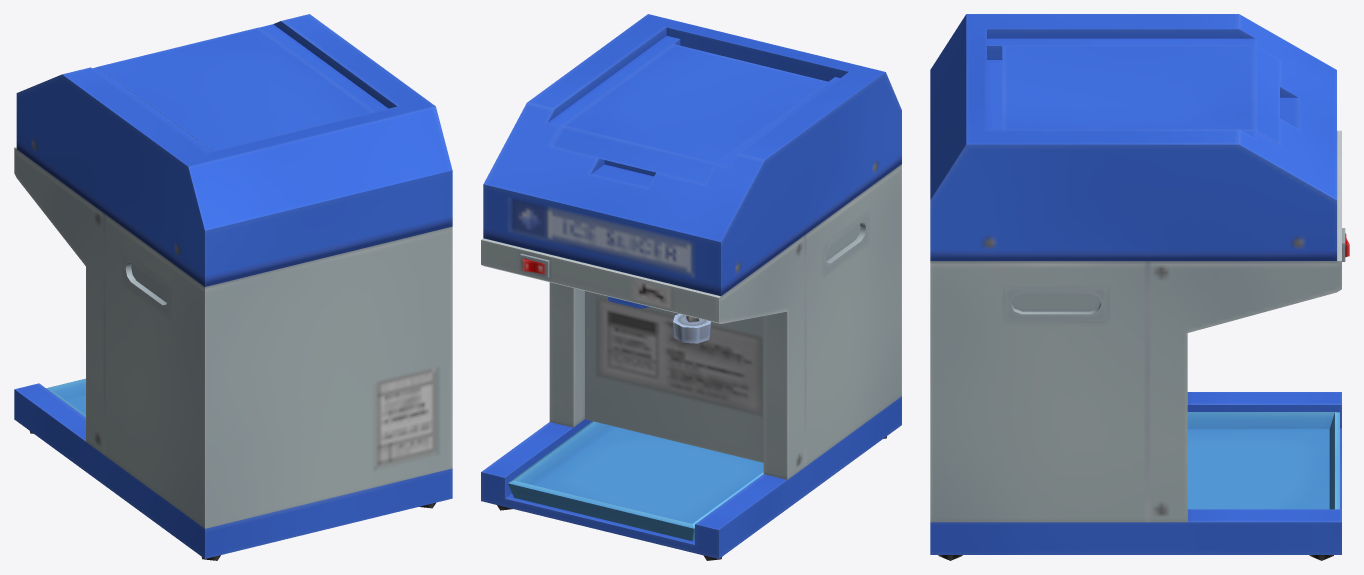
The model's file is jsf_ShavedIceMachine_02.fbx.
3 views of the same model, side by side, from view 1: azimuth 30°, elevation 25°; view 2: azimuth 150°, elevation 25°; view 3: azimuth 270°, elevation 25° (orthographic). The views are drawn at different scales.
Visible parts, largest first — view 1: Body, Lid, Tray; view 2: Body, Lid, Tray, Dial; view 3: Body, Lid, Tray.
Boxes of the visible parts, box(x1,y1,x2,y2) form: Body: box(14, 14, 452, 560); Lid: box(98, 27, 373, 151); Tray: box(46, 378, 85, 417); Body: box(481, 14, 901, 560); Lid: box(550, 44, 827, 184); Tray: box(508, 421, 763, 541); Dial: box(673, 314, 711, 343); Body: box(930, 14, 1345, 560); Lid: box(1002, 46, 1279, 144); Tray: box(1187, 412, 1339, 509).
Bounding box in the file's own units: 30 × 45 × 40.74.
